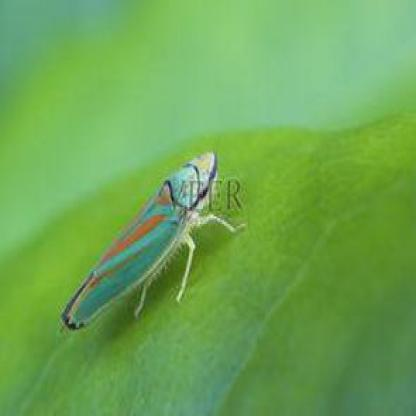green-leafhopper: (60, 143, 223, 336)
